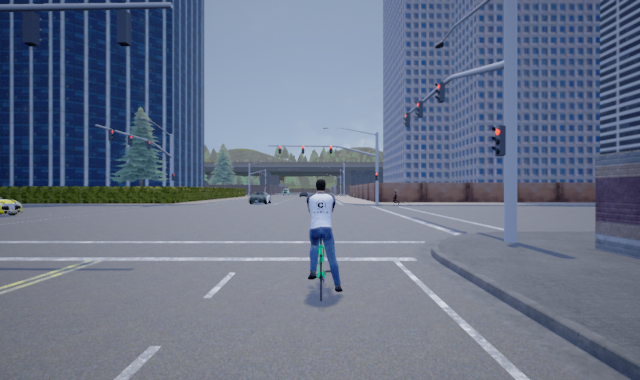bike: (305, 178, 343, 308)
pedestrian: (392, 186, 400, 204)
vehicle: (1, 194, 21, 218), (248, 192, 270, 204)
